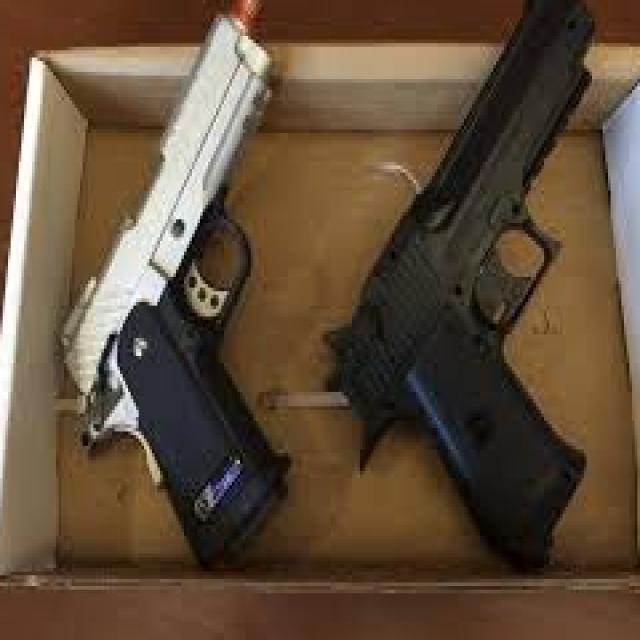gun: (301, 0, 615, 582), (51, 0, 296, 554)
